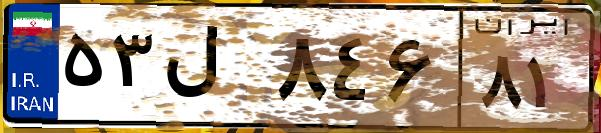1: (525, 38, 570, 115)
3: (110, 28, 158, 98)
4: (330, 28, 385, 110)
5: (57, 26, 110, 100)
6: (385, 28, 445, 110)
8: (270, 28, 330, 110), (475, 38, 525, 113)
ل: (158, 20, 270, 120)
